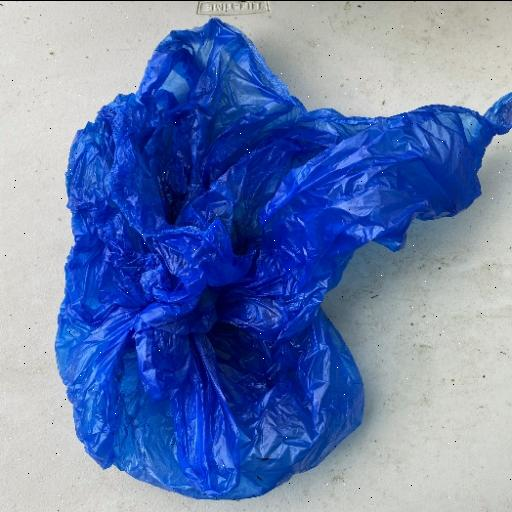Plastic: (53, 16, 509, 502)
